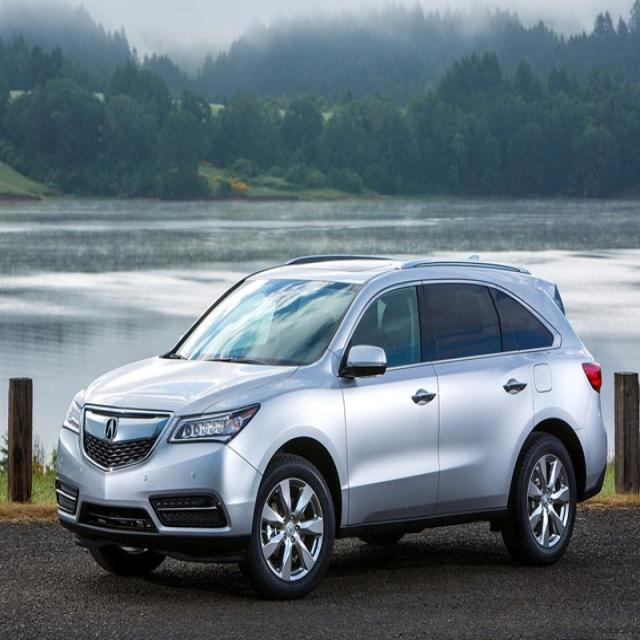back_left_side_light: (581, 359, 606, 395)
door: (422, 281, 538, 515)
front_bumper: (55, 424, 264, 538)
front_glass: (174, 278, 367, 366)
front_left_side_door: (335, 278, 441, 529)
front_left_side_light: (165, 400, 262, 444)
front_left_side_mirror: (342, 344, 388, 380)
front_right_side_light: (62, 396, 84, 439)
rear_bumper: (572, 392, 610, 502)
wheel: (240, 452, 338, 594), (498, 431, 577, 563)
